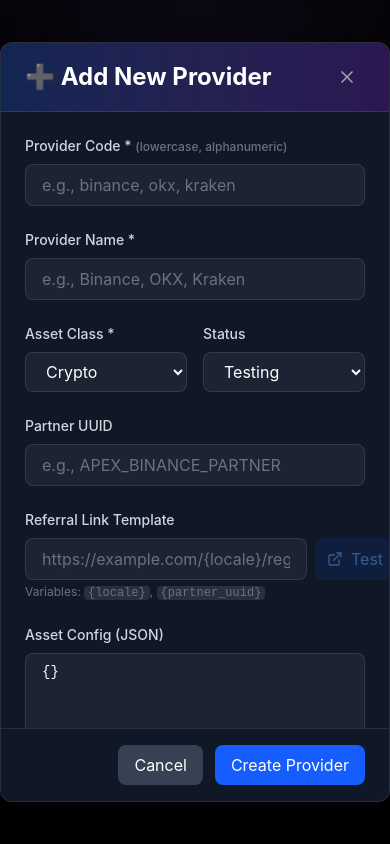
Test case: ProviderFormModal › validates required fields
The image size is (390, 844).
Click the button "Create Provider": click(290, 765) [215,745,365,785]
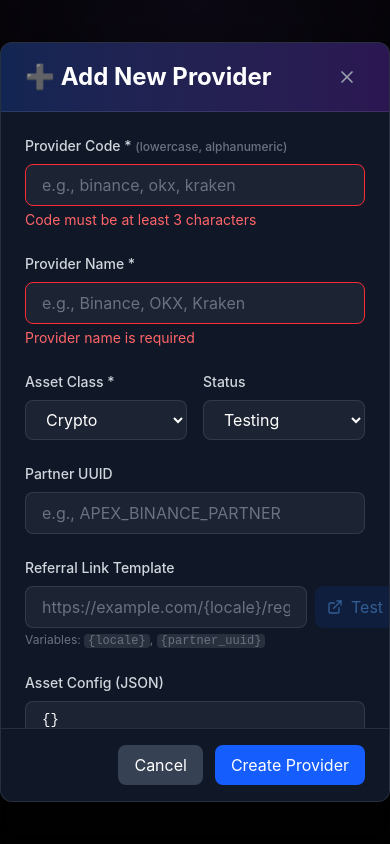
Expected: the text "Provider name is required" is shown, [25,329,195,346]
Expected: the text "Code must be at least 3 characters" is shown, [25,211,256,228]
